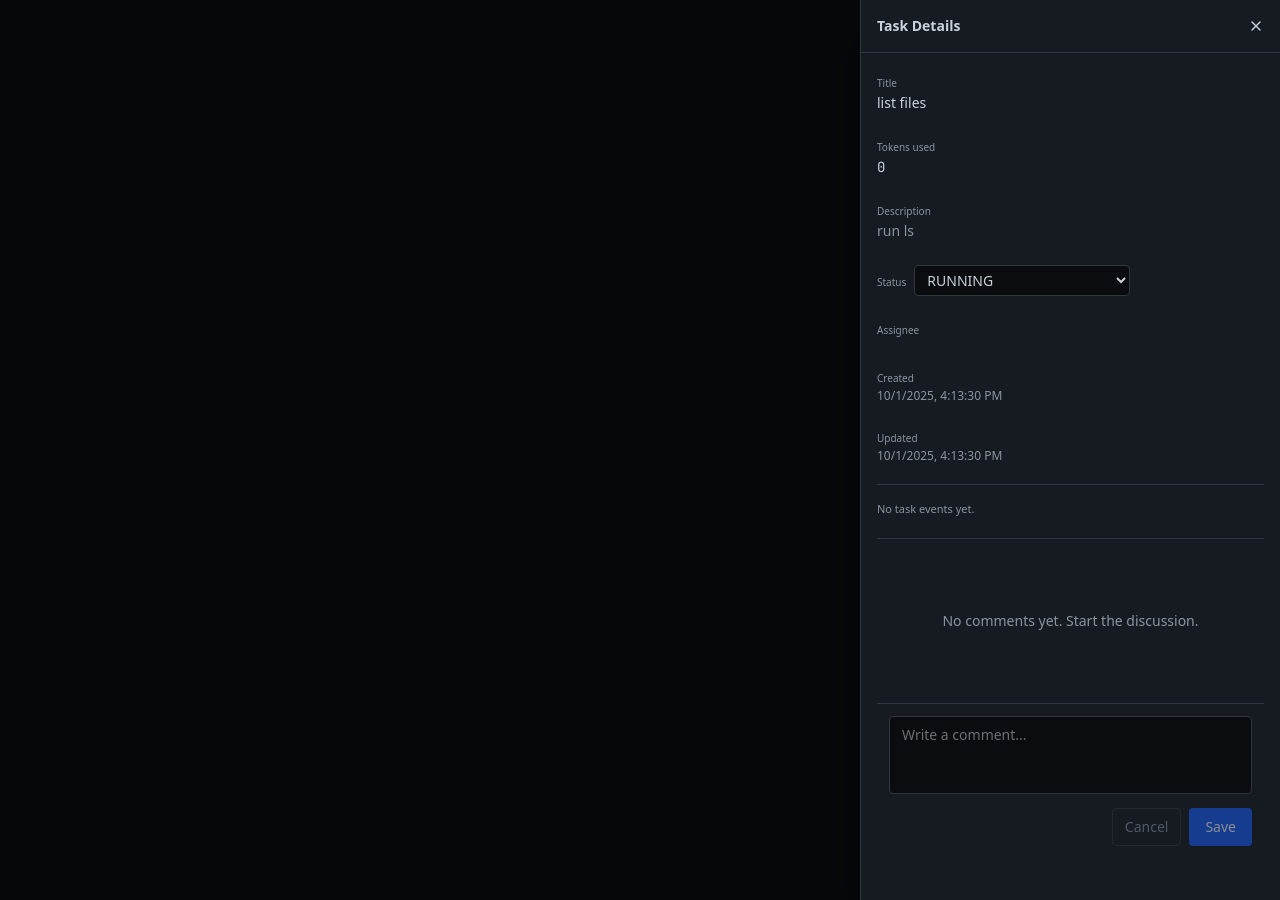
TaskDrawer failed edits › clears the message after a later edit succeeds
Step 1. Select "PENDING" in the dropdown → (1022, 280), box [914,265,1130,296]
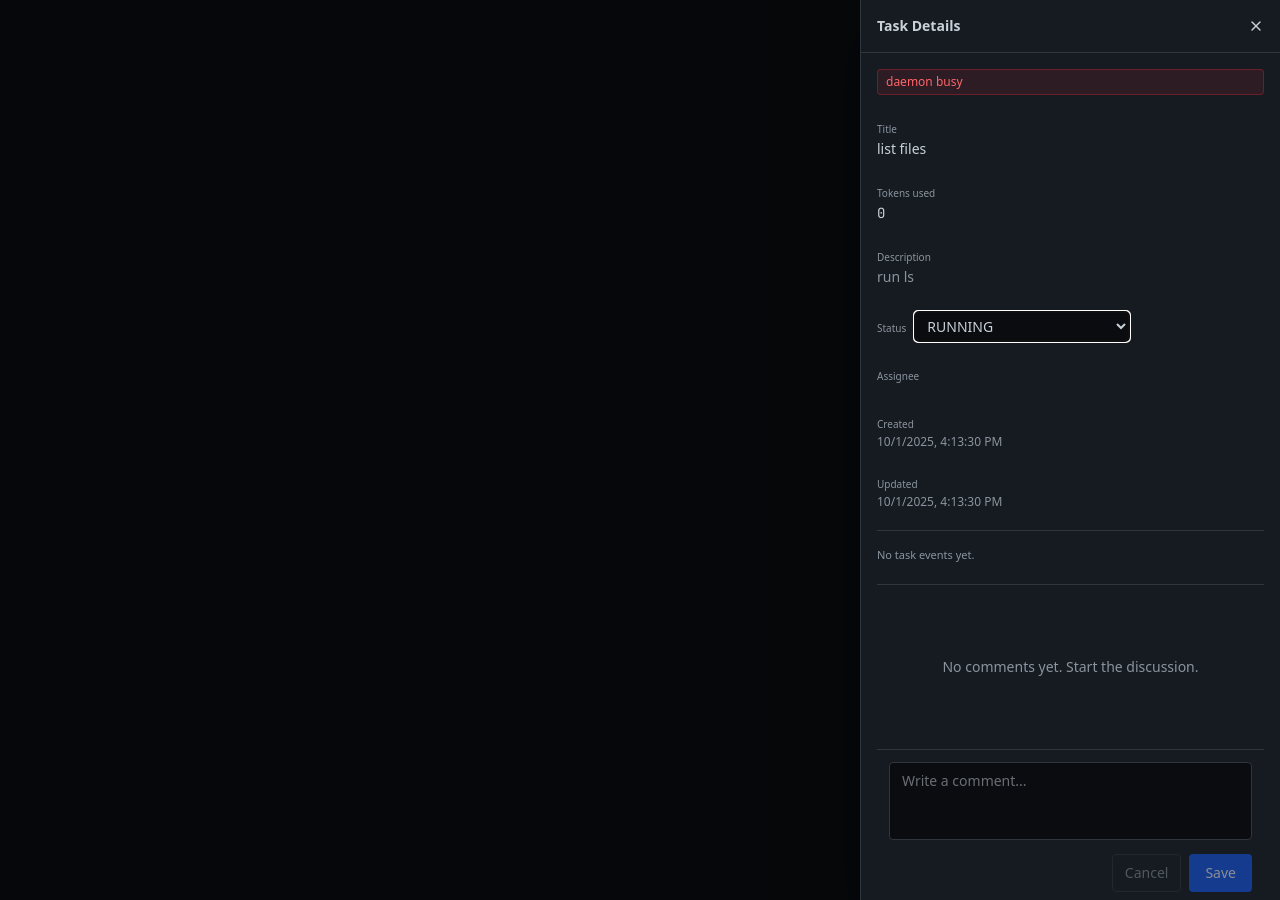
Now the message "daemon busy" is shown, box [877,69,1264,95]
Step 2. Select "READY" in the dropdown → (1022, 326), box [914,311,1130,342]
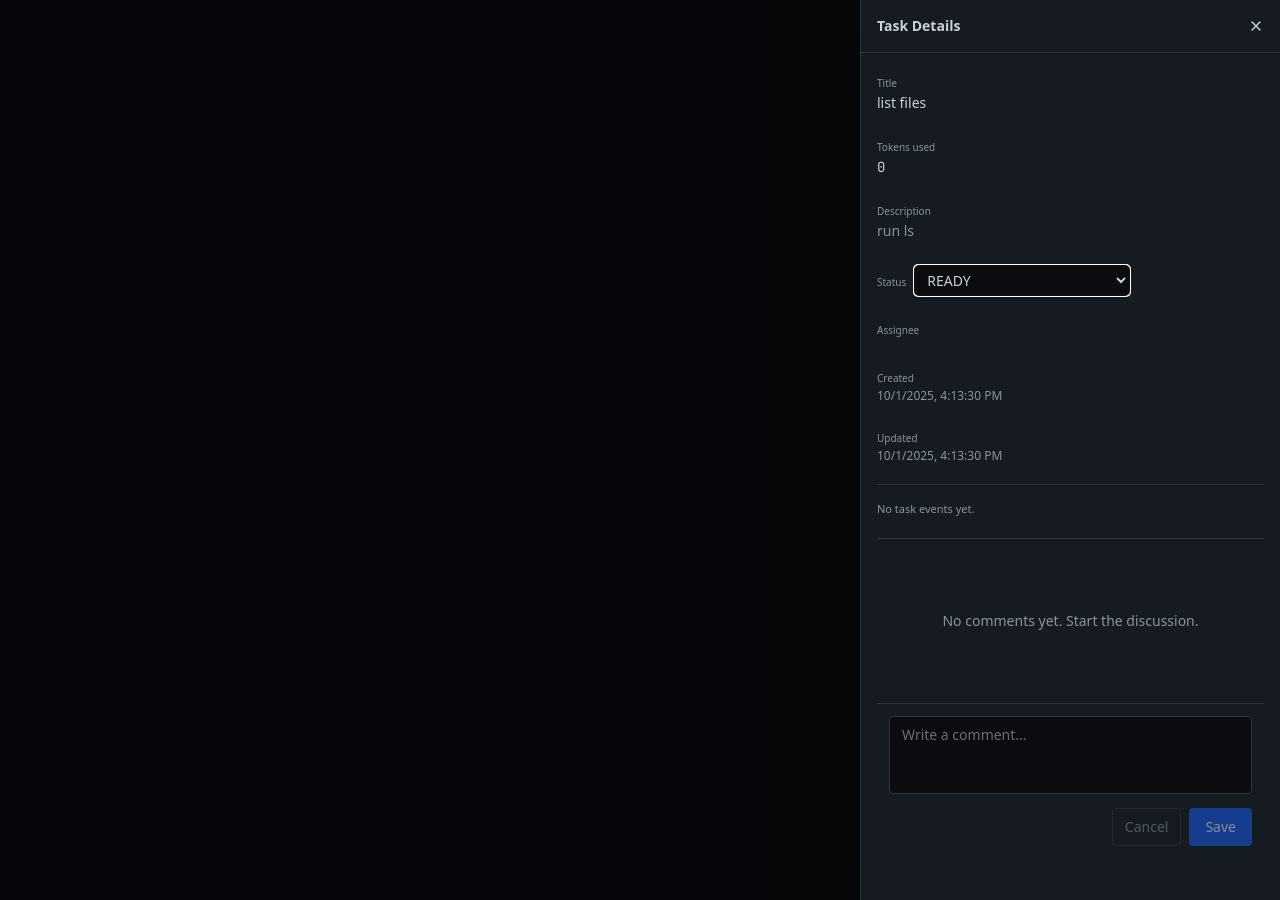
Now the message "daemon busy" is gone
